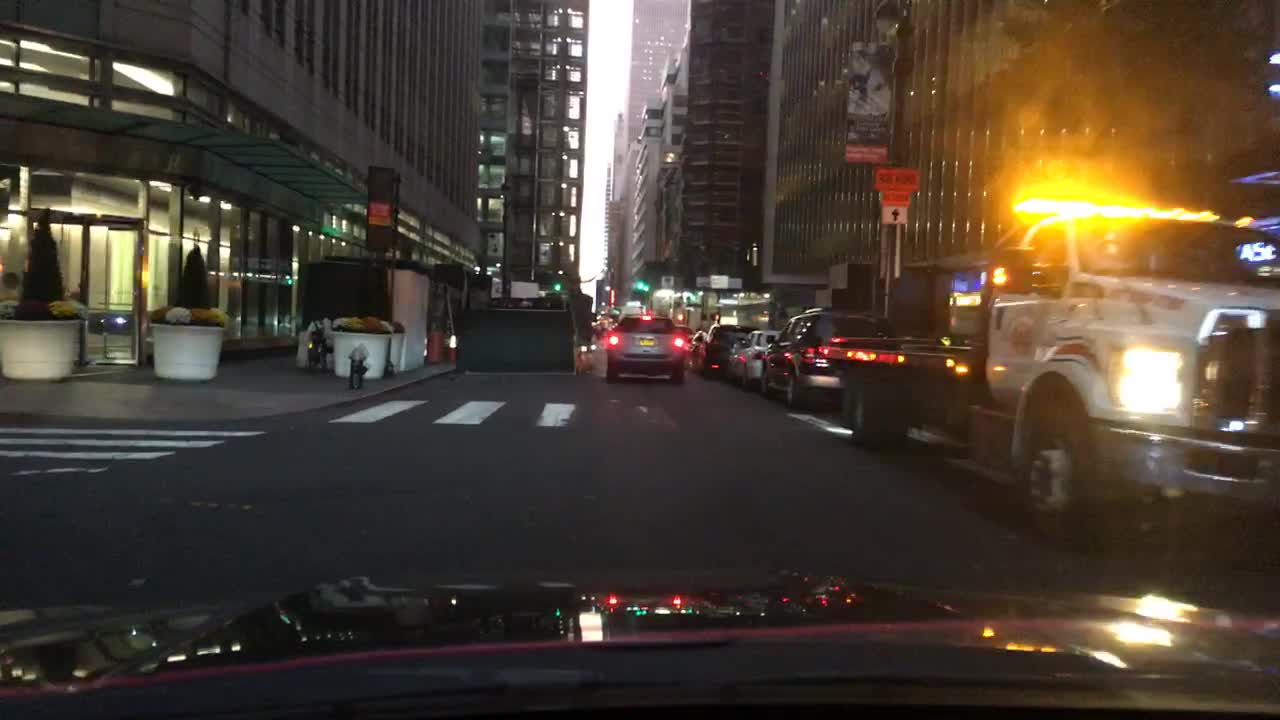car: (758, 309, 894, 409), (604, 309, 686, 385), (722, 324, 784, 385), (697, 323, 754, 377), (684, 327, 705, 371), (575, 337, 596, 355)
traffic light: (637, 278, 647, 291), (552, 281, 562, 291)
traffic sign: (876, 163, 917, 190), (877, 187, 906, 203), (883, 204, 905, 221), (709, 272, 729, 289)
truck: (837, 205, 1278, 565)
